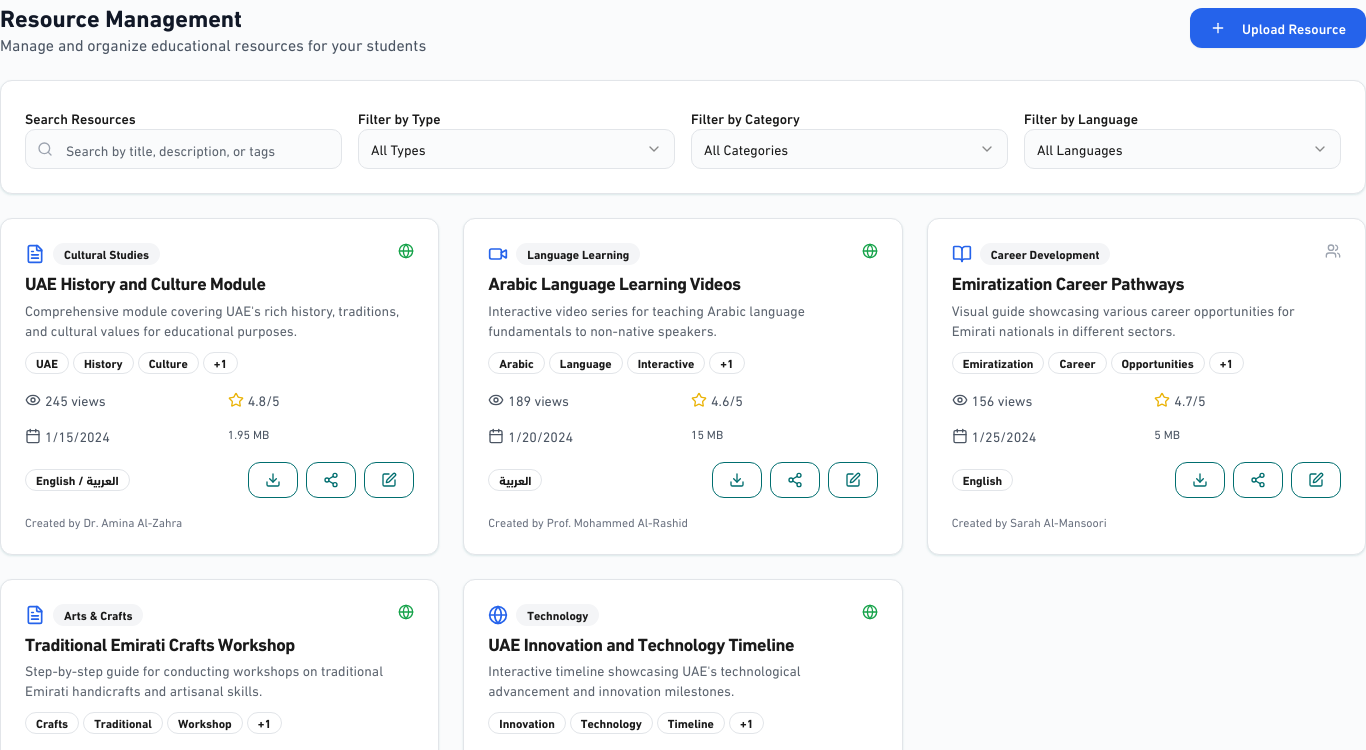
Test case: Educator Persona Components › ResourceManagement › opens upload resource dialog
Click the button "Upload Resource" at (1278, 28), box [1190,8,1365,48]
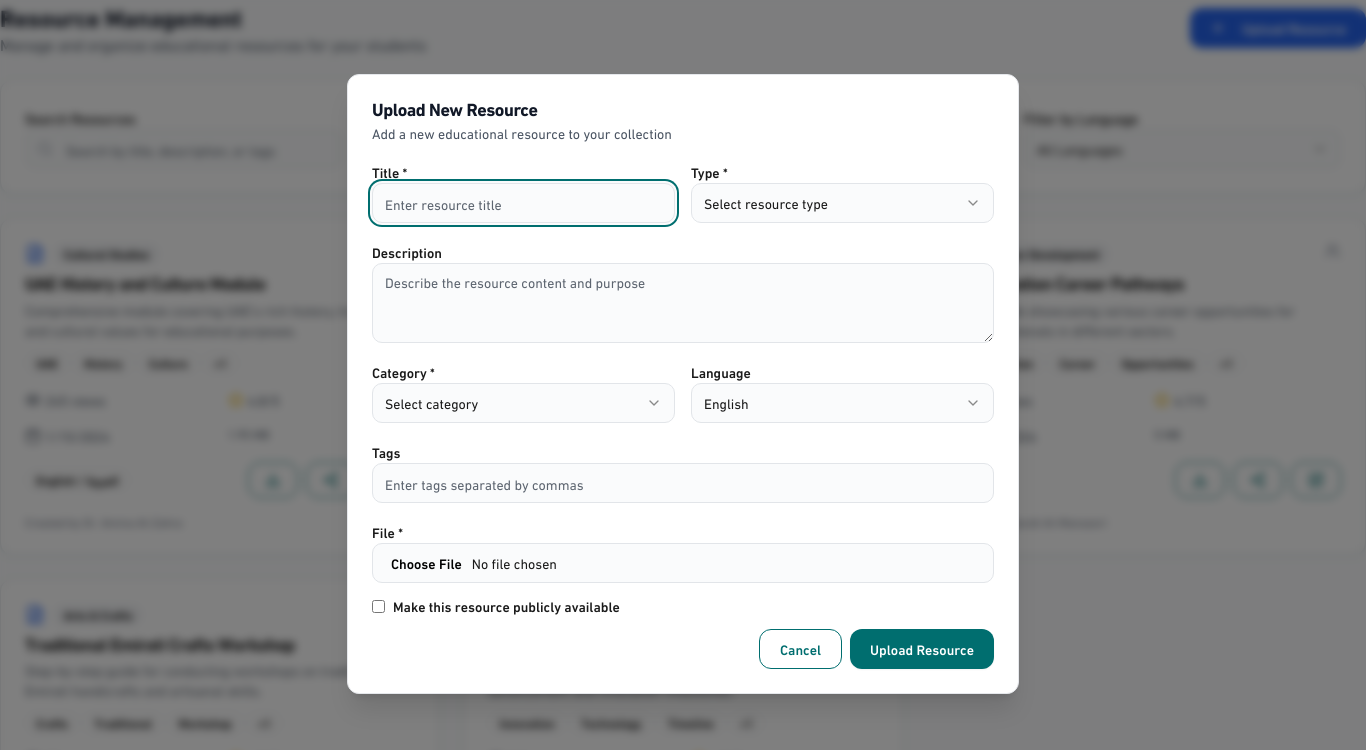
Now the heading "Upload New Resource" is shown, box [372,94,538,121]
